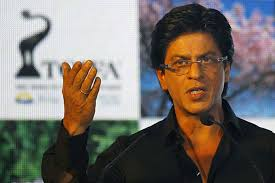Glasses: (162, 57, 228, 74)
